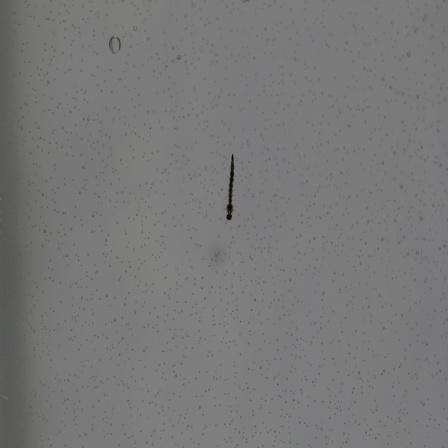Jentik-Nyamuk: (222, 154, 243, 222)
